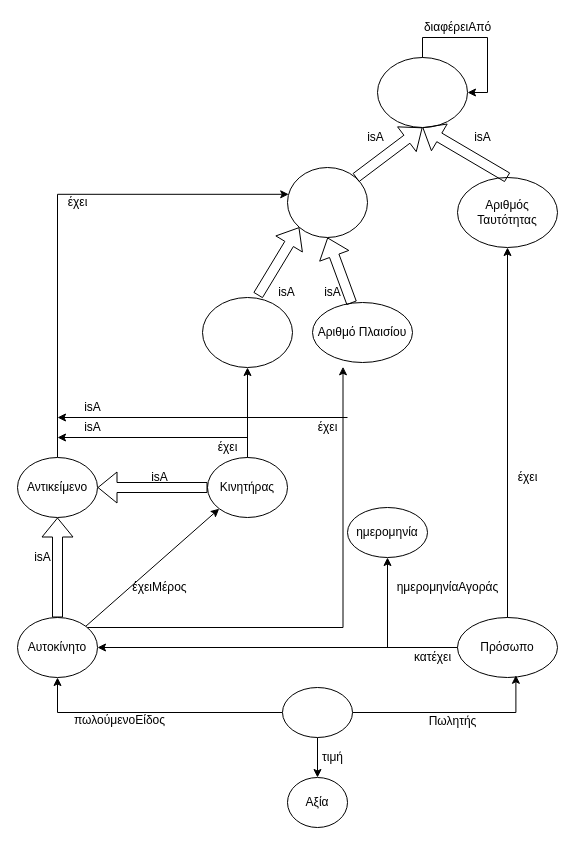
The diagram is 575 pixels wide and 845 high, and some of its shapes have lost their labels. The centre of each missing label's shape, as x and y in pixels:
Αριθμό Αντικειμένου: pixel 327 202
Αριθμός κινητήρα: pixel 247 332
Κωδικός Αριθμός: pixel 422 92
Πώληση: pixel 317 712
